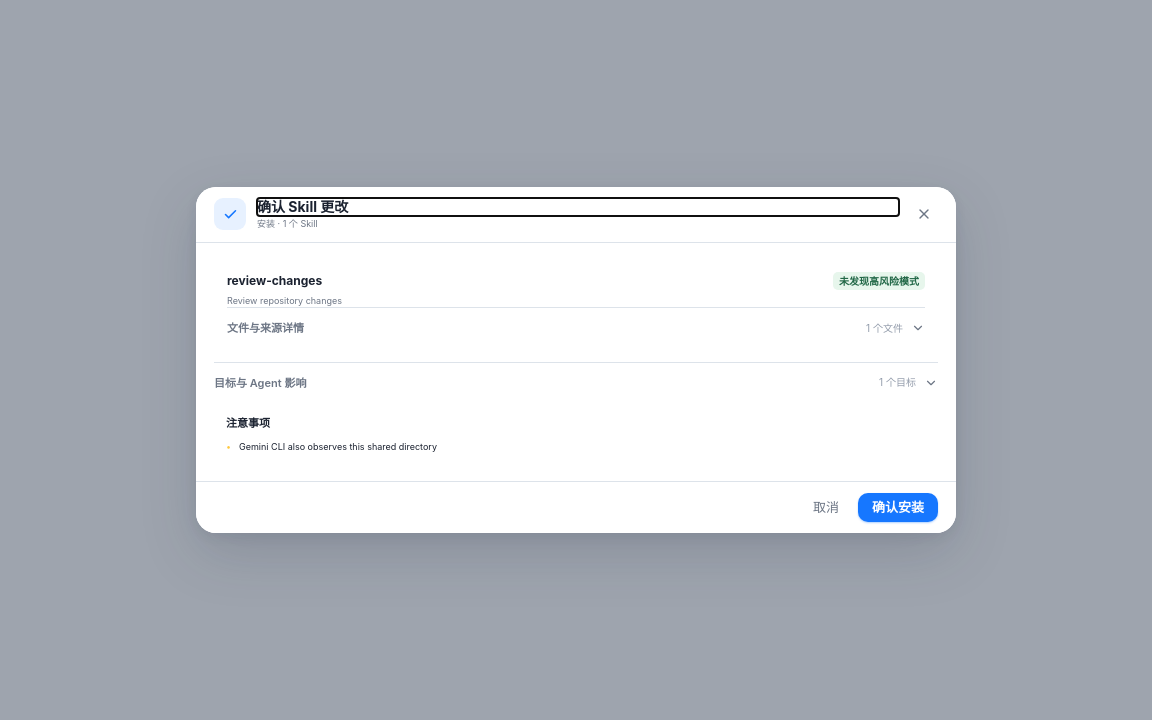
Test: SkillReviewDialog › keeps other structured operation errors visible
Click the button "确认安装" at (898, 508), box [858,493,938,522]
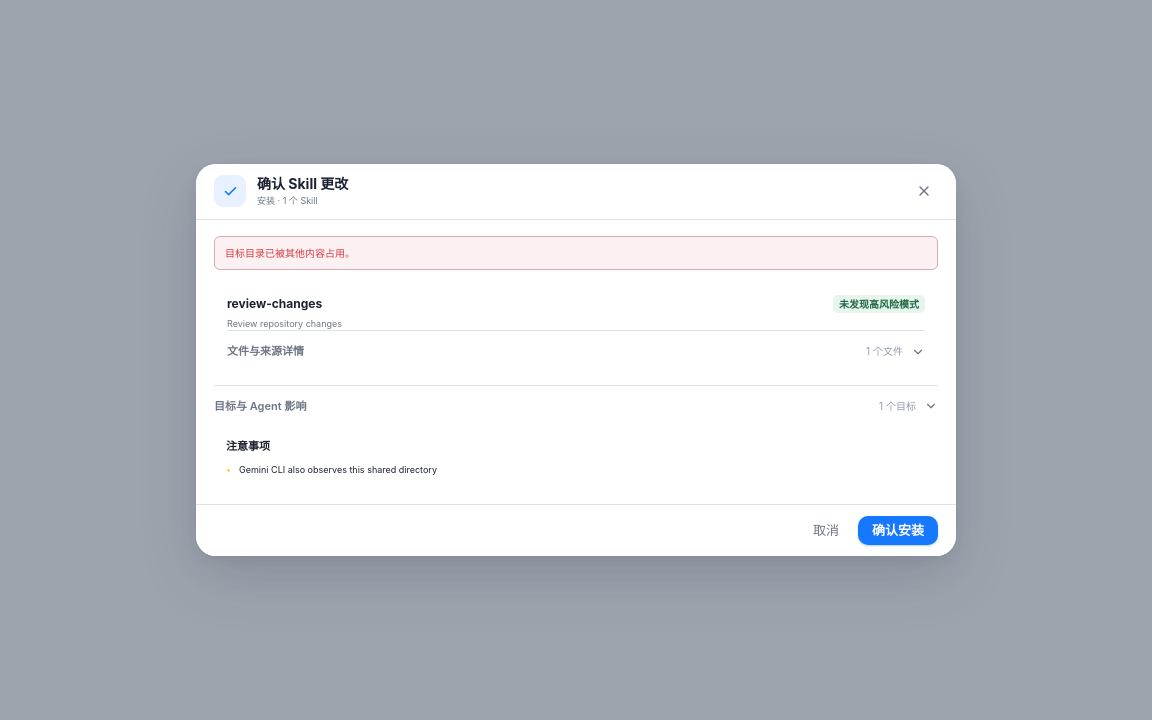
Check: the message reads "目标目录已被其他内容占用。", box [225,247,355,259]
